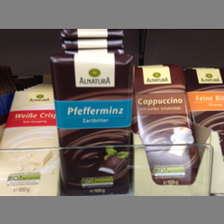chocolate: (50, 53, 134, 193), (132, 65, 196, 185), (1, 91, 57, 196), (188, 67, 224, 151)
